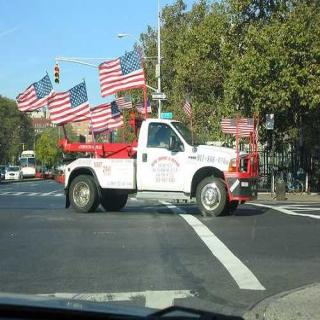Towing_truck: (55, 114, 260, 218)
